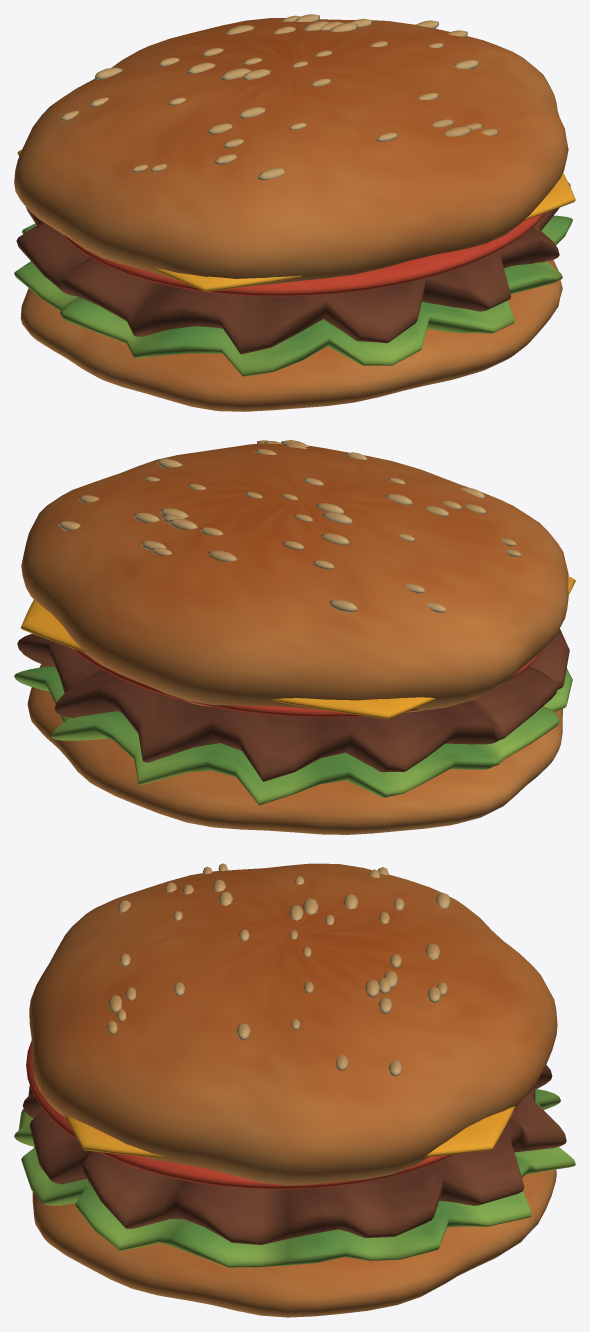
File: bread_burger.glb
3 views of the same model, one above another, from view 1: azimuth 30°, elevation 25°; view 2: azimuth 150°, elevation 25°; view 3: azimuth 270°, elevation 25° (orthographic). The views are drawn at different scales.
Parts seen in each view (by area): view 1: ごまバンズ, 下のバンズ, 粗挽きパティ, フリルレタス, トマト, 白ごま, とろけたチェダー; view 2: ごまバンズ, 粗挽きパティ, 下のバンズ, フリルレタス, 白ごま, とろけたチェダー, トマト; view 3: ごまバンズ, 粗挽きパティ, 下のバンズ, フリルレタス, 白ごま, トマト, とろけたチェダー.
Part boxes in pixels (x1=…): ごまバンズ: x1=14, y1=18, x2=568, y2=287; 下のバンズ: x1=20, y1=260, x2=562, y2=411; 粗挽きパティ: x1=16, y1=182, x2=570, y2=354; フリルレタス: x1=14, y1=215, x2=572, y2=376; トマト: x1=61, y1=213, x2=545, y2=296; 白ごま: x1=61, y1=14, x2=498, y2=180; とろけたチェダー: x1=17, y1=149, x2=575, y2=291; ごまバンズ: x1=21, y1=443, x2=568, y2=712; 粗挽きパティ: x1=17, y1=628, x2=569, y2=781; 下のバンズ: x1=27, y1=664, x2=562, y2=834; フリルレタス: x1=14, y1=666, x2=572, y2=805; 白ごま: x1=58, y1=440, x2=520, y2=612; とろけたチェダー: x1=20, y1=576, x2=575, y2=719; トマト: x1=71, y1=647, x2=545, y2=717; ごまバンズ: x1=29, y1=863, x2=557, y2=1185; 粗挽きパティ: x1=22, y1=1065, x2=566, y2=1244; 下のバンズ: x1=32, y1=1147, x2=556, y2=1317; フリルレタス: x1=14, y1=1089, x2=575, y2=1267; 白ごま: x1=106, y1=863, x2=450, y2=1076; トマト: x1=26, y1=1041, x2=515, y2=1189; とろけたチェダー: x1=64, y1=1106, x2=515, y2=1158.
Size of the model in its own units: 0.9011 by 0.4455 by 0.8007.
